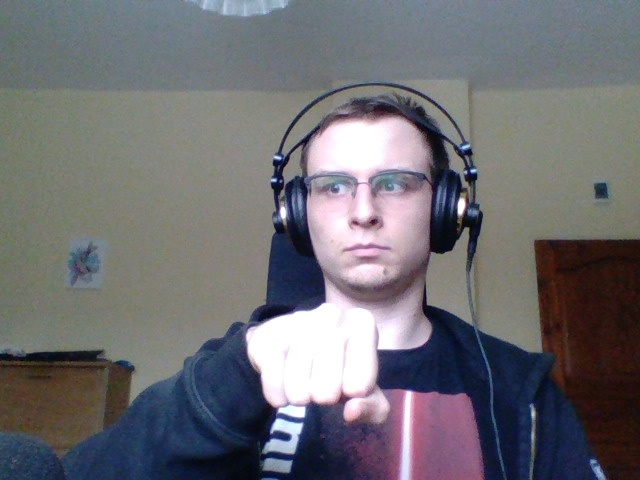yes: (229, 295, 403, 434)
